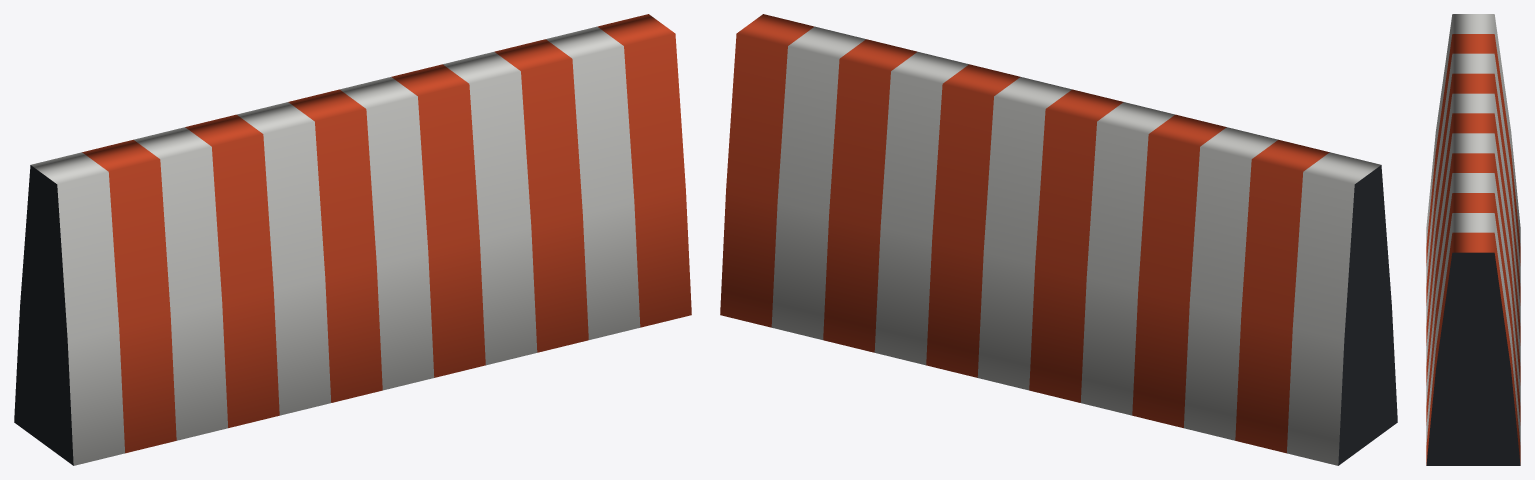
File: desktop.glb
The picture shows the model from 3 angles, left to right: view 1: azimuth 30°, elevation 25°; view 2: azimuth 150°, elevation 25°; view 3: azimuth 270°, elevation 25°; orthographic projection. The views are drawn at different scales.
Visible parts, largest first — view 1: barrier; view 2: barrier; view 3: barrier.
Boxes of the visible parts, x1,y1,x2,y2 form: barrier: (14, 14, 691, 465); barrier: (720, 14, 1397, 465); barrier: (1426, 14, 1520, 465).
Size of the model in its own units: 2.4 by 1 by 0.4.
